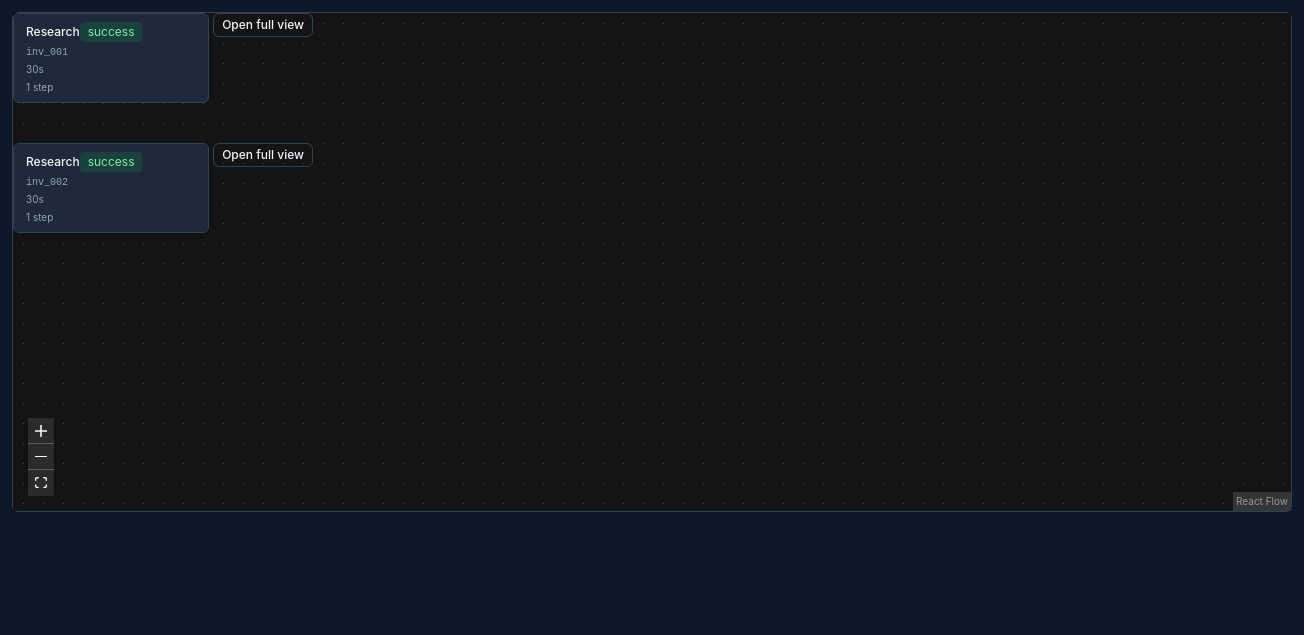
Scenario: InvocationGraph › no stream panel when selection points to removed invocation (stale selection)
Click the button with test id "invocation-node-inv_001" at (111, 58), box [13,13,209,103]
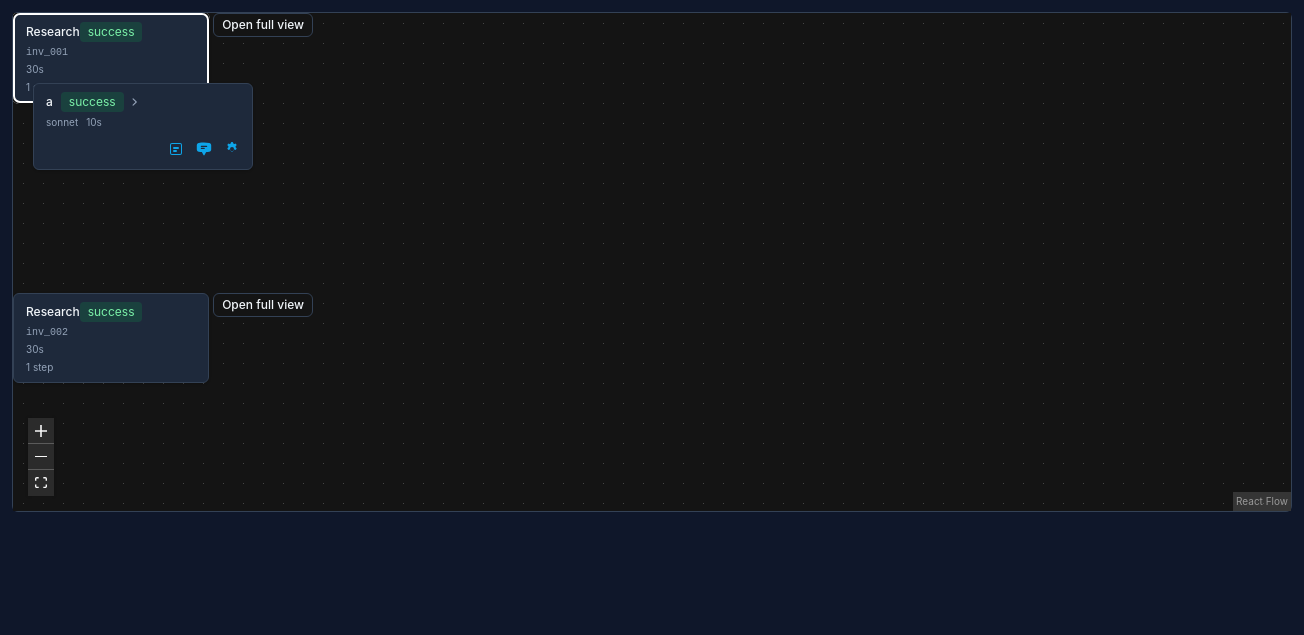
Click the button with aria-label "Show activity of " at (143, 109), box [34,84,252,133]
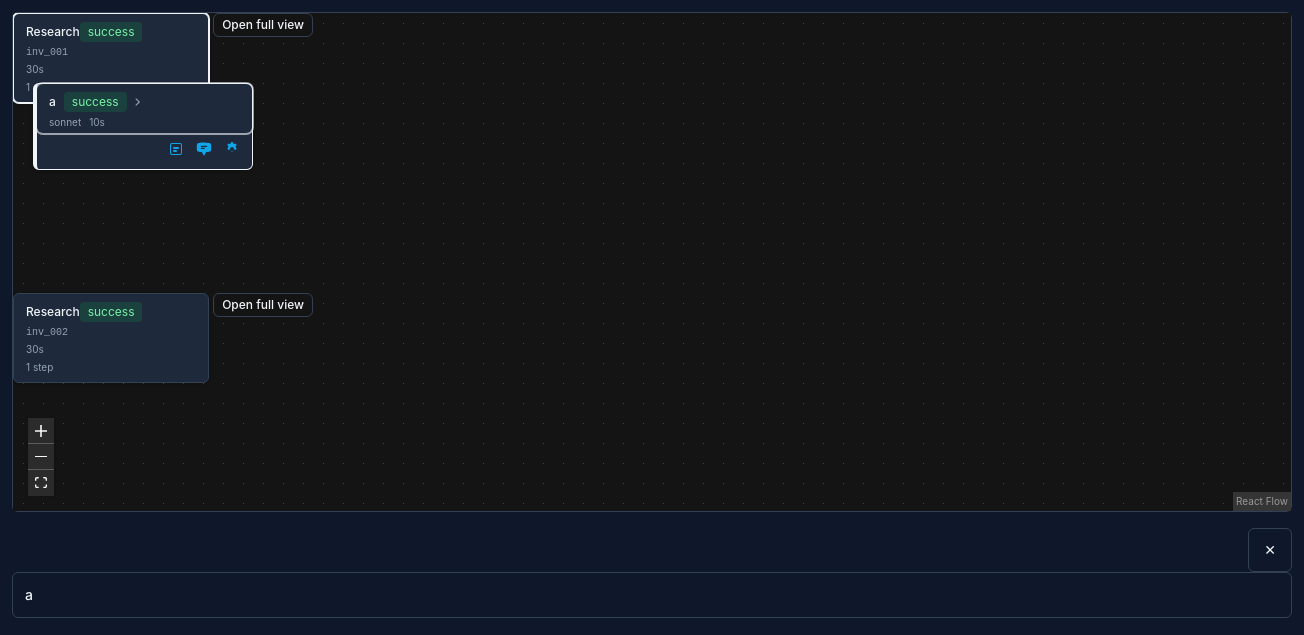
Expected: the element with test id "stream-detail-inv_001" is shown, [12,528,1292,618]
